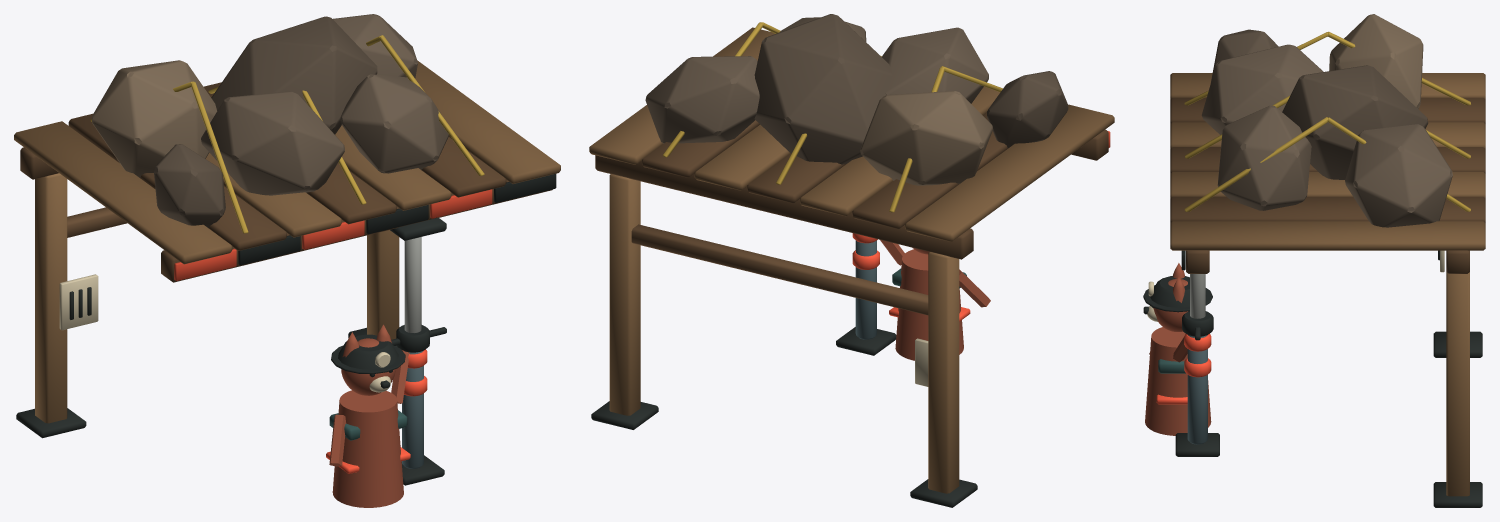
Rendered from enemy_prop_crew.glb.
The picture shows the model from 3 angles, left to right: view 1: azimuth 30°, elevation 25°; view 2: azimuth 150°, elevation 25°; view 3: azimuth 270°, elevation 25°; orthographic projection. The views are drawn at different scales.
Visible parts, largest first — view 1: PropCanopy, PropCrewBody, PropShore; view 2: PropCanopy, PropCrewBody, PropShore; view 3: PropCanopy, PropCrewBody, PropShore.
Part boxes in pixels (left/top/right/bottom): PropCanopy: left=14, top=14, right=560, bottom=282; PropCrewBody: left=16, top=173, right=410, bottom=507; PropShore: left=390, top=217, right=446, bottom=485; PropCanopy: left=589, top=14, right=1114, bottom=259; PropCrewBody: left=591, top=174, right=990, bottom=507; PropShore: left=836, top=233, right=896, bottom=355; PropCanopy: left=1170, top=14, right=1485, bottom=273; PropCrewBody: left=1143, top=250, right=1482, bottom=507; PropShore: left=1175, top=274, right=1219, bottom=456.
Size of the model in its own units: 5.2 by 5.07 by 4.34.
